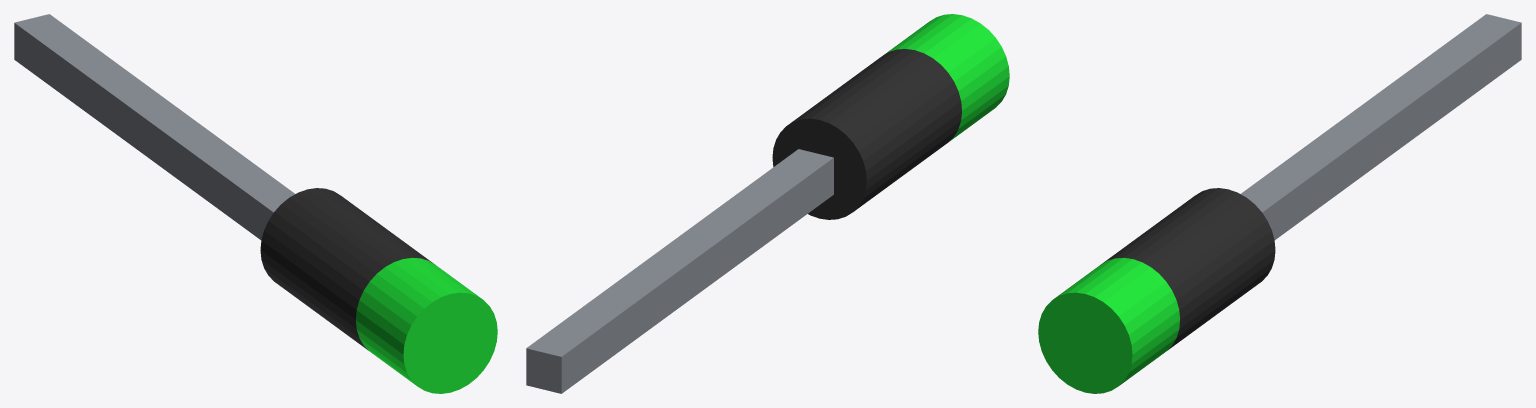
Rendered from 19_torre_sinalizacao.obj.
3 views of the same model, side by side, from view 1: azimuth 30°, elevation 25°; view 2: azimuth 150°, elevation 25°; view 3: azimuth 330°, elevation 25° (orthographic).
Parts seen in each view (by area): view 1: Torre_Sinal_Haste, Torre_Sinal_Verde, Torre_Sinal_Vermelho, Torre_Sinal_Amarelo; view 2: Torre_Sinal_Haste, Torre_Sinal_Vermelho, Torre_Sinal_Amarelo, Torre_Sinal_Verde; view 3: Torre_Sinal_Haste, Torre_Sinal_Verde, Torre_Sinal_Vermelho, Torre_Sinal_Amarelo.
Boxes of the visible parts, x1,y1,x2,y2 form: Torre_Sinal_Haste: (14, 14, 294, 239); Torre_Sinal_Verde: (356, 257, 497, 393); Torre_Sinal_Vermelho: (260, 188, 385, 316); Torre_Sinal_Amarelo: (308, 223, 434, 350); Torre_Sinal_Haste: (526, 149, 833, 393); Torre_Sinal_Vermelho: (772, 83, 914, 219); Torre_Sinal_Amarelo: (836, 49, 961, 176); Torre_Sinal_Verde: (883, 14, 1009, 141); Torre_Sinal_Haste: (1241, 14, 1521, 239); Torre_Sinal_Verde: (1038, 257, 1179, 393); Torre_Sinal_Vermelho: (1150, 188, 1275, 316); Torre_Sinal_Amarelo: (1101, 223, 1227, 350).
Bounding box in the file's own units: 0.08 × 0.08 × 0.615.
